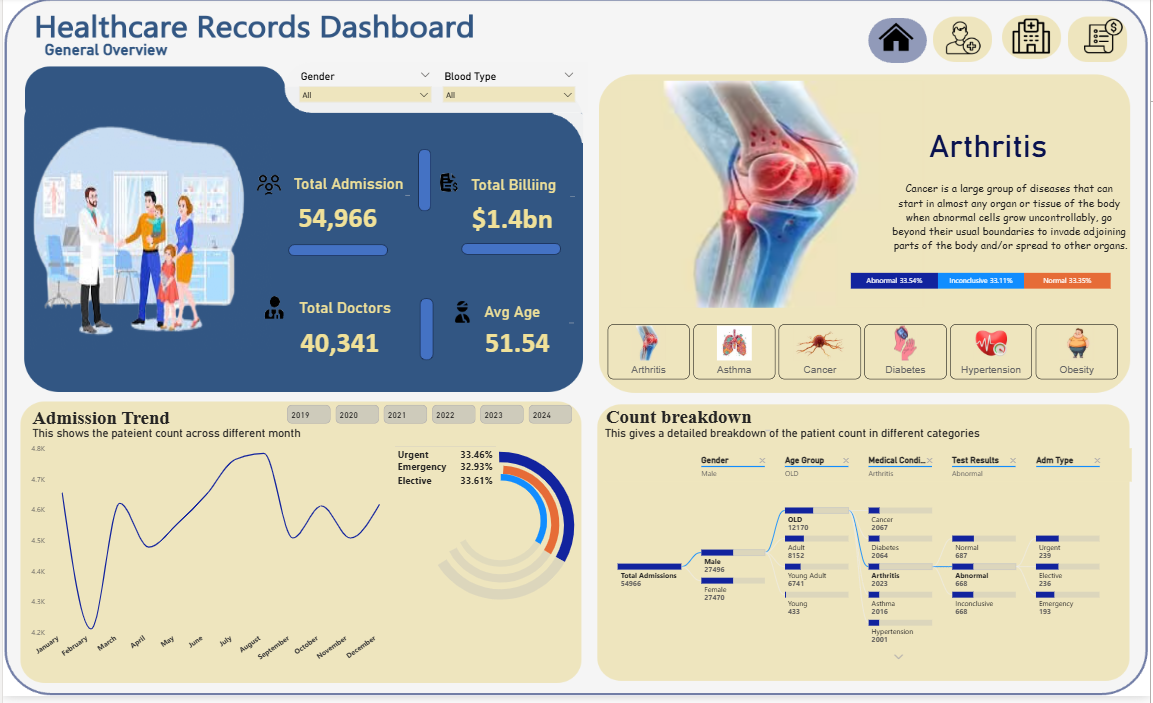

What the dashboard file says about the page in this screenshot:
{"tool":"powerbi","page":{"name":"patient demographics","canvas":[1280,720],"ordinal":1},"visuals":[{"type":"donutChart","fields":{"Category":["CLEANED_HEALTH_CARE_DATA.Gender"],"Y":["CLEANED_HEALTH_CARE_DATA.Total Admissions"]},"box":[678.1,140.5,260,260],"z":0},{"type":"packedBubble563FBEFA65CC43A48496B6BB533D9890","fields":{"measure":["CLEANED_HEALTH_CARE_DATA.Total Admissions"],"category":["CLEANED_HEALTH_CARE_DATA.Age Group"]},"box":[937,113.6,308.9,287.2],"z":1000},{"type":"lineChart","title":"Sum of Length of stay by Month","fields":{"Category":["CLEANED_HEALTH_CARE_DATA.Date of Admission.Variation.Date Hierarchy.Month"],"Y":["Sum(CLEANED_HEALTH_CARE_DATA.Length of stay.)"]},"box":[29.3,464.9,603.1,233],"z":2000},{"type":"clusteredBarChart","fields":{"Category":["CLEANED_HEALTH_CARE_DATA.Medical Condition"],"Y":["CLEANED_HEALTH_CARE_DATA.Total Admissions"]},"box":[682.7,464.9,537.5,233],"z":3000},{"type":"card","title":"Total billing Amount","fields":{"Values":["Sum(CLEANED_HEALTH_CARE_DATA.Billing Amount)"]},"box":[491.1,182.1,141,47],"z":4000},{"type":"card","title":"Avg Age","fields":{"Values":["Avg(CLEANED_HEALTH_CARE_DATA.Age)"]},"box":[491.1,316.1,141,43.5],"z":5000},{"type":"card","title":"Total Doctors","fields":{"Values":["Count(CLEANED_HEALTH_CARE_DATA.Doctor)"]},"box":[284.3,293.7,175.1,68.1],"z":6000},{"type":"card","title":"Total Admission","fields":{"Values":["CountNonNull(CLEANED_HEALTH_CARE_DATA.NAME)"]},"box":[278.5,186.8,178.6,42.3],"z":7000},{"type":"textbox","title":"Total Admission","box":[309,163.3,126.9,50.5],"z":8000},{"type":"image","box":[267.9,276.1,49.3,36.4],"z":9000},{"type":"image","box":[466.5,157.4,49.3,31.7],"z":10000},{"type":"image","box":[477,280.8,51.7,32.9],"z":11000},{"type":"image","box":[267.9,163.3,49.3,36.4],"z":12000},{"type":"textbox","title":"Total Billiing ","box":[479.4,162.1,149.2,48.2],"z":13000},{"type":"textbox","title":"Total Doctors","box":[287.9,283.2,165.7,20],"z":14000},{"type":"textbox","title":"Avg Age","box":[477,289,155.1,49.3],"z":15000},{"type":"image","box":[0,78.9,345.9,257.4],"z":16000},{"type":"textbox","title":"Length of Stay Trend","box":[36.3,420.4,274,24.6],"z":17000},{"type":"textbox","title":"Medical condition","box":[672.2,431,274,24.6],"z":18000},{"type":"textbox","title":"Gender and age distribution","box":[683,91.3,359.5,33.2],"z":19000},{"type":"textbox","title":"Patient Demographic","box":[29.1,47,214.5,33.2],"z":20000},{"type":"textbox","title":"This shows the length of stay across each month","box":[0,445,390,19.9],"z":21000},{"type":"textbox","title":"This shows the distribution of the medical condition","box":[661.7,455.6,358.4,21.1],"z":22000},{"type":"textbox","title":"This shows the distribution of the medical condition","box":[671.9,113.4,359.5,20.7],"z":23000},{"type":"advancedSlicerVisual","fields":{"Values":["CLEANED_HEALTH_CARE_DATA.Date of Admission.Variation.Date Hierarchy.Year"]},"box":[418.4,414.3,221.1,51.7],"z":24000}]}

Visuals, with their boxes on the page's 1280x720 design canvas (x1, y1, x2, y2). These are canvas units, not pixel positions in the 1153x703 screenshot, which may show the page scaled, cropped or inside an application window:
donutChart - CLEANED_HEALTH_CARE_DATA.Gender x CLEANED_HEALTH_CARE_DATA.Total Admissions: BBox(678, 140, 938, 400)
packedBubble563FBEFA65CC43A48496B6BB533D9890 - CLEANED_HEALTH_CARE_DATA.Total Admissions x CLEANED_HEALTH_CARE_DATA.Age Group: BBox(937, 114, 1246, 401)
"Sum of Length of stay by Month" lineChart: BBox(29, 465, 632, 698)
clusteredBarChart - CLEANED_HEALTH_CARE_DATA.Medical Condition x CLEANED_HEALTH_CARE_DATA.Total Admissions: BBox(683, 465, 1220, 698)
"Total billing Amount" card: BBox(491, 182, 632, 229)
"Avg Age" card: BBox(491, 316, 632, 360)
"Total Doctors" card: BBox(284, 294, 459, 362)
"Total Admission" card: BBox(278, 187, 457, 229)
"Total Admission" textbox: BBox(309, 163, 436, 214)
image: BBox(268, 276, 317, 312)
image: BBox(466, 157, 516, 189)
image: BBox(477, 281, 529, 314)
image: BBox(268, 163, 317, 200)
"Total Billiing " textbox: BBox(479, 162, 629, 210)
"Total Doctors" textbox: BBox(288, 283, 454, 303)
"Avg Age" textbox: BBox(477, 289, 632, 338)
image: BBox(0, 79, 346, 336)
"Length of Stay Trend" textbox: BBox(36, 420, 310, 445)
"Medical condition" textbox: BBox(672, 431, 946, 456)
"Gender and age distribution" textbox: BBox(683, 91, 1042, 124)
"Patient Demographic" textbox: BBox(29, 47, 244, 80)
"This shows the length of stay across each month" textbox: BBox(0, 445, 390, 465)
"This shows the distribution of the medical condition" textbox: BBox(662, 456, 1020, 477)
"This shows the distribution of the medical condition" textbox: BBox(672, 113, 1031, 134)
advancedSlicerVisual - CLEANED_HEALTH_CARE_DATA.Date of Admission.Variation.Date Hierarchy.Year: BBox(418, 414, 640, 466)
